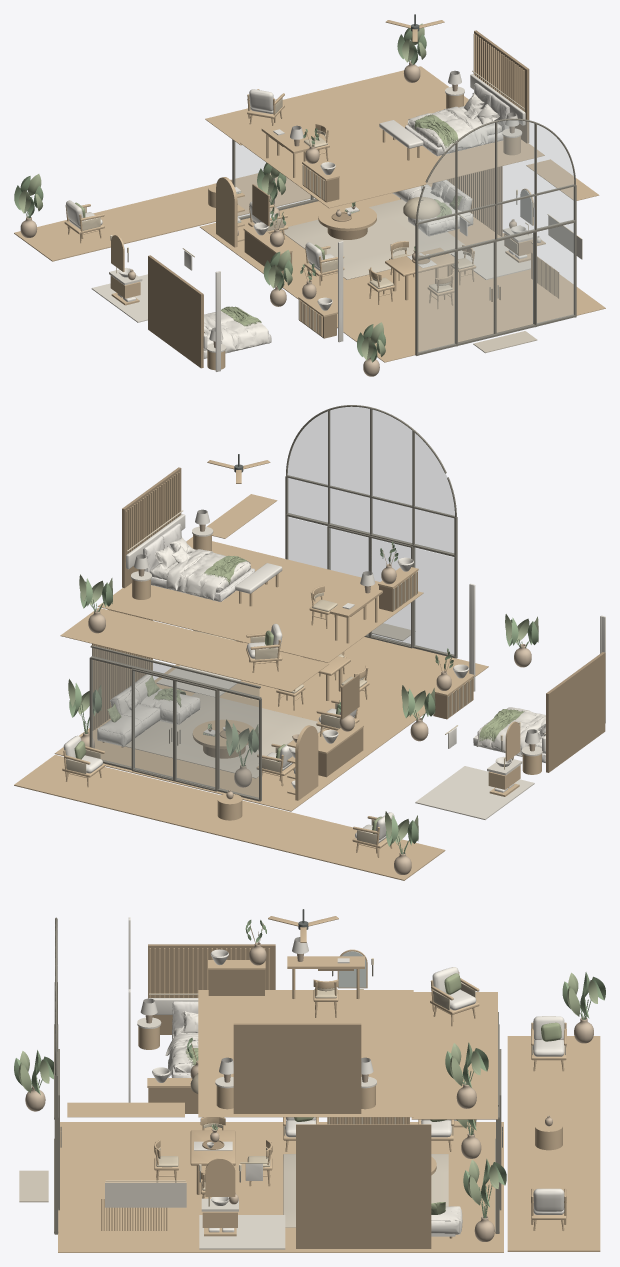
Rendered from canopy.glb.
3 renders of one model, top to bottom at view 1: azimuth 30°, elevation 25°; view 2: azimuth 150°, elevation 25°; view 3: azimuth 270°, elevation 25°, orthographic. The views are drawn at different scales.
Parts seen in each view (by area): view 1: Entry | fitted finishes (×5), Living | fitted finishes (×5), Loft bedroom | fitted finishes (×3), Terrace | fitted finishes, Guest bedroom | fitted finishes (×3), Balcony | fitted finishes, Shelter of Sky bed · draped duvet and sculpted loose pillows (×2), Broad-leaf tropical plant in clay vessel (×5), Natural woven living rug, Teak and cane lounge chair with loose linen cushions (×3), Main bathroom | fitted finishes (×2), Guest bathroom | fitted finishes (×2) (+10 smaller); view 2: Entry | fitted finishes (×6), Living | fitted finishes (×5), Loft bedroom | fitted finishes (×3), Terrace | fitted finishes, Balcony | fitted finishes, Guest bedroom | fitted finishes (×3), Shelter of Sky bed · draped duvet and sculpted loose pillows (×2), Broad-leaf tropical plant in clay vessel (×6), Natural woven living rug, Guest bathroom | fitted finishes (×2), Teak and cane lounge chair with loose linen cushions (×4), Organic linen lounge with teak base, olive cushions and wove (+6 smaller); view 3: Living | fitted finishes (×3), Loft bedroom | fitted finishes (×4), Terrace | fitted finishes, Balcony | fitted finishes, Guest bedroom | fitted finishes (×3), Broad-leaf tropical plant in clay vessel (×5), Teak and cane lounge chair with loose linen cushions (×5), Main bathroom | fitted finishes (×2), Kitchen | fitted finishes (×2), Solid timber bedside drum and linen lamp (×3), Shelter of Sky bed · draped duvet and sculpted loose pillows, Entry | fitted finishes (×2) (+8 smaller).
Part boxes in pixels (x1,y1,x2,y2): Entry | fitted finishes (×5): [232, 118, 576, 355]; Living | fitted finishes (×5): [200, 166, 605, 362]; Loft bedroom | fitted finishes (×3): [240, 30, 599, 208]; Terrace | fitted finishes: [14, 173, 314, 261]; Guest bedroom | fitted finishes (×3): [148, 241, 343, 371]; Balcony | fitted finishes: [205, 66, 448, 145]; Shelter of Sky bed · draped duvet and sculpted loose pillows (×2): [203, 83, 509, 358]; Broad-leaf tropical plant in clay vessel (×5): [14, 23, 426, 376]; Natural woven living rug: [280, 199, 464, 279]; Teak and cane lounge chair with loose linen cushions (×3): [64, 89, 344, 285]; Main bathroom | fitted finishes (×2): [450, 188, 534, 279]; Guest bathroom | fitted finishes (×2): [91, 235, 147, 322]; Entry | fitted finishes (×6): [89, 405, 457, 801]; Living | fitted finishes (×5): [54, 609, 488, 811]; Loft bedroom | fitted finishes (×3): [97, 467, 423, 662]; Terrace | fitted finishes: [14, 755, 445, 880]; Balcony | fitted finishes: [60, 607, 328, 692]; Guest bedroom | fitted finishes (×3): [433, 583, 605, 772]; Shelter of Sky bed · draped duvet and sculpted loose pillows (×2): [143, 523, 545, 763]; Broad-leaf tropical plant in clay vessel (×6): [68, 574, 538, 874]; Natural woven living rug: [125, 693, 324, 778]; Guest bathroom | fitted finishes (×2): [415, 721, 534, 819]; Teak and cane lounge chair with loose linen cushions (×4): [62, 623, 394, 857]; Organic linen lounge with teak base, olive cushions and wove: [97, 674, 200, 747]; Living | fitted finishes (×3): [58, 1117, 503, 1252]; Loft bedroom | fitted finishes (×4): [67, 909, 413, 1117]; Terrace | fitted finishes: [507, 1036, 600, 1251]; Balcony | fitted finishes: [411, 992, 497, 1119]; Guest bedroom | fitted finishes (×3): [128, 917, 275, 1113]; Broad-leaf tropical plant in clay vessel (×5): [14, 972, 605, 1241]; Teak and cane lounge chair with loose linen cushions (×5): [283, 967, 566, 1230]; Main bathroom | fitted finishes (×2): [199, 1158, 285, 1249]; Kitchen | fitted finishes (×2): [101, 1180, 186, 1230]; Solid timber bedside drum and linen lamp (×3): [137, 998, 376, 1109]; Shelter of Sky bed · draped duvet and sculpted loose pillows: [165, 1001, 198, 1077]; Entry | fitted finishes (×2): [54, 917, 499, 1234].
Bounding box in the file's own units: 10.38 × 6.42 × 11.82.
